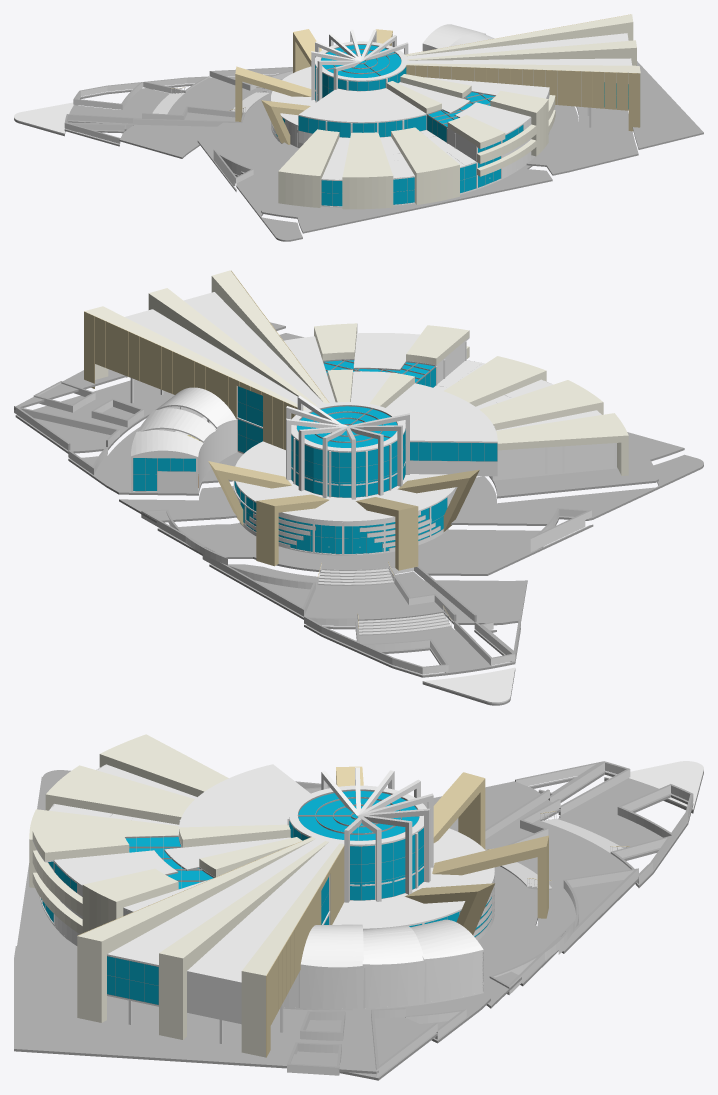
Rendered from modelo.glb.
3 renders of one model, top to bottom at view 1: azimuth 30°, elevation 25°; view 2: azimuth 150°, elevation 25°; view 3: azimuth 270°, elevation 25°, orthographic. The views are drawn at different scales.
Visible parts, largest first — view 1: Geom3D (×28); view 2: Geom3D (×22); view 3: Geom3D (×26).
Boxes of the visible parts, x1,y1,x2,y2 form: Geom3D (×28): (14,14,703,241); Geom3D (×22): (14,270,703,705); Geom3D (×26): (14,734,703,1080).
Size of the model in its own units: 97.69 by 17.5 by 78.
